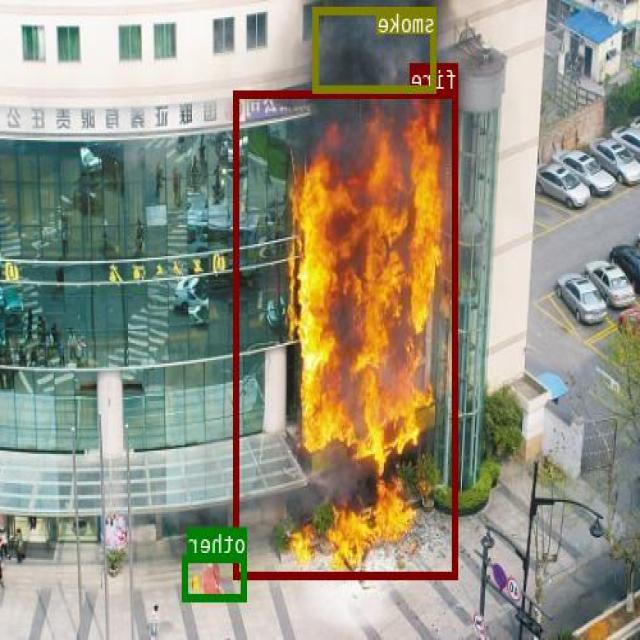fire: (236, 89, 458, 577)
other: (183, 553, 247, 600)
smoke: (314, 5, 437, 91)
